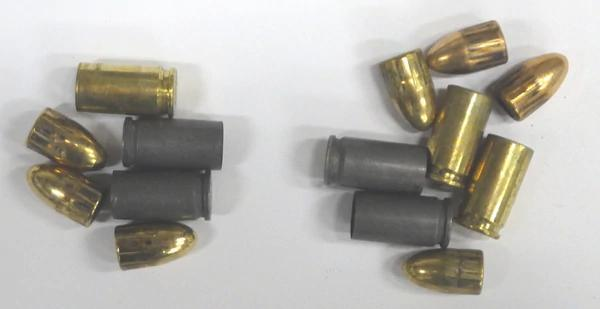Bullet: (22, 159, 109, 234), (490, 48, 577, 123), (20, 105, 109, 171), (367, 52, 438, 133), (110, 215, 202, 276), (430, 13, 509, 77), (403, 243, 493, 299)
